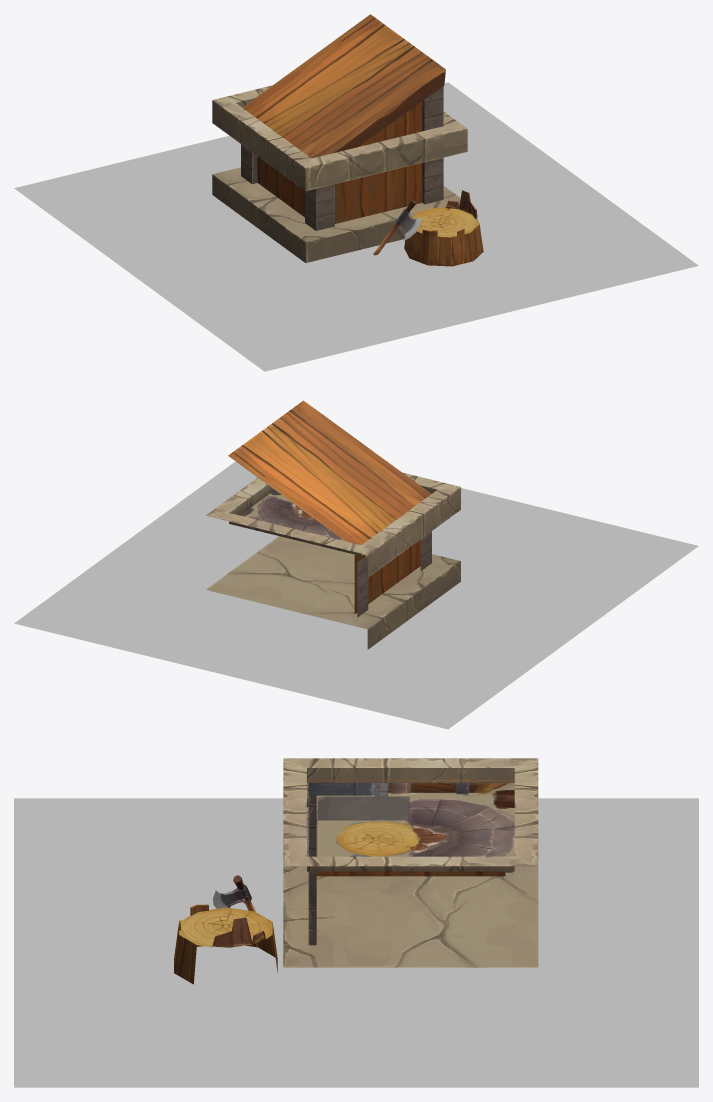
The model's file is The main city_023_LV04.FBX.
The picture shows the model from 3 angles, top to bottom: view 1: azimuth 30°, elevation 25°; view 2: azimuth 150°, elevation 25°; view 3: azimuth 270°, elevation 25°; orthographic projection. The views are drawn at different scales.
Visible parts, largest first — view 1: The main city_023_LV04; view 2: The main city_023_LV04; view 3: The main city_023_LV04.
Boxes of the visible parts, box(x1,y1,x2,y2) form: The main city_023_LV04: box(14, 14, 698, 371); The main city_023_LV04: box(14, 400, 698, 729); The main city_023_LV04: box(14, 758, 698, 1087).
Bounding box in the file's own units: 59.9 × 20.4 × 59.9.
